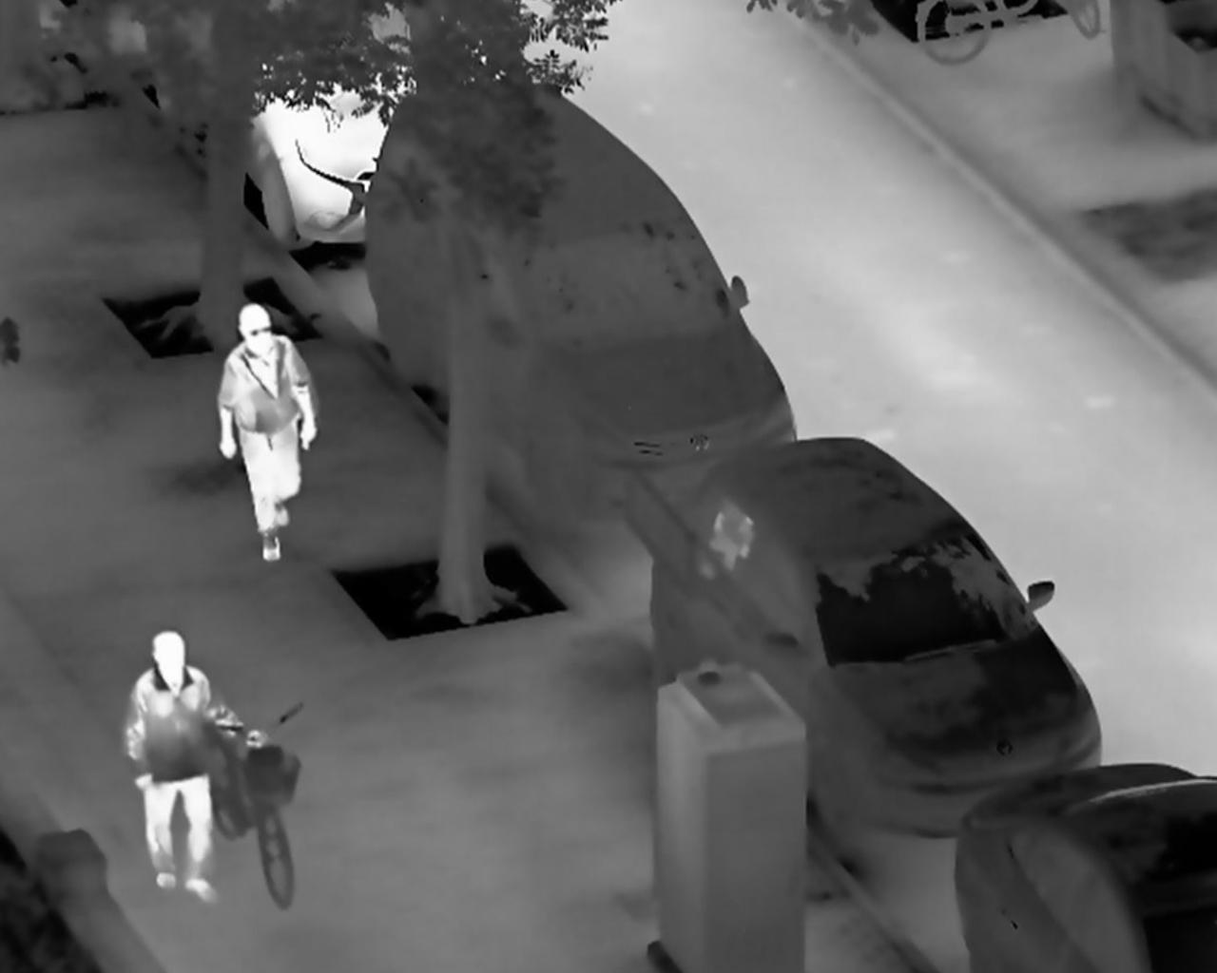person: (126, 627, 271, 908), (211, 302, 322, 567)
